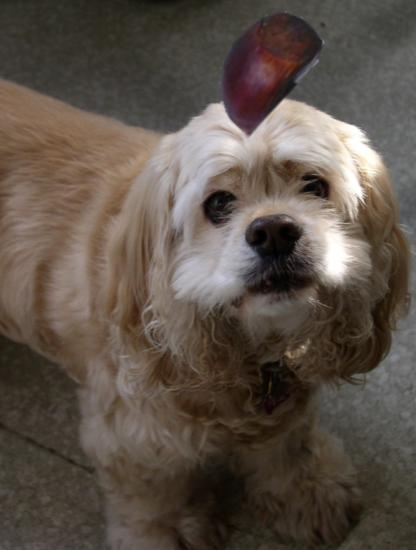Chestnut: (197, 2, 328, 133)
